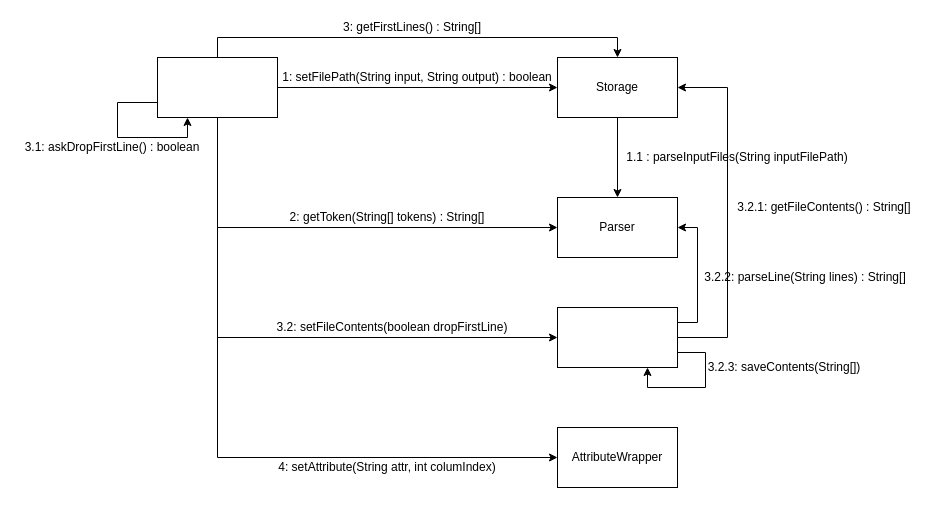
Some shapes in this 932 by 505 pixel diagram are drawn without their labels. Here are the shapes that lost their labels. From the top down, the centre of each, then its label:
At (x=217, y=87): "MainController".
At (x=617, y=337): "HiveInteractor".
